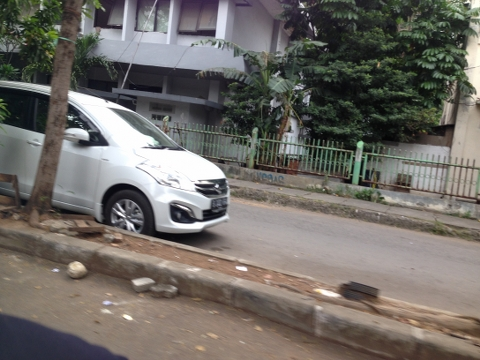mobil: (1, 80, 230, 238)
